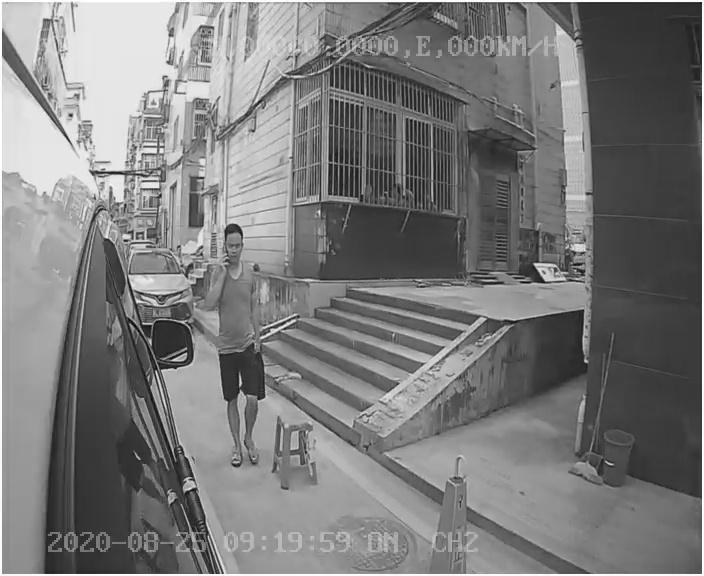person: (199, 224, 279, 470)
